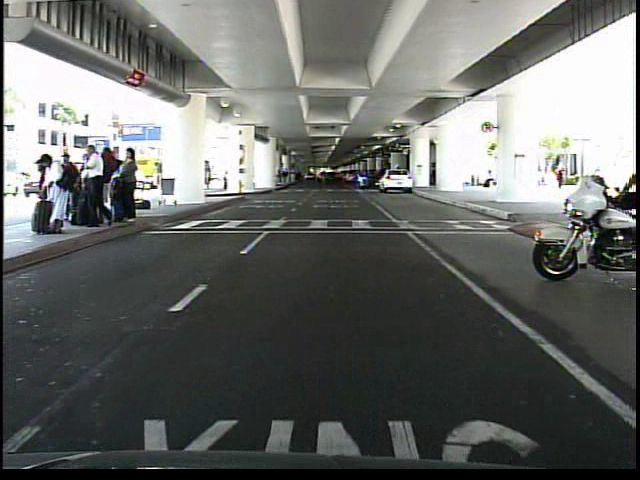person: (546, 156, 569, 196), (482, 163, 496, 195)
